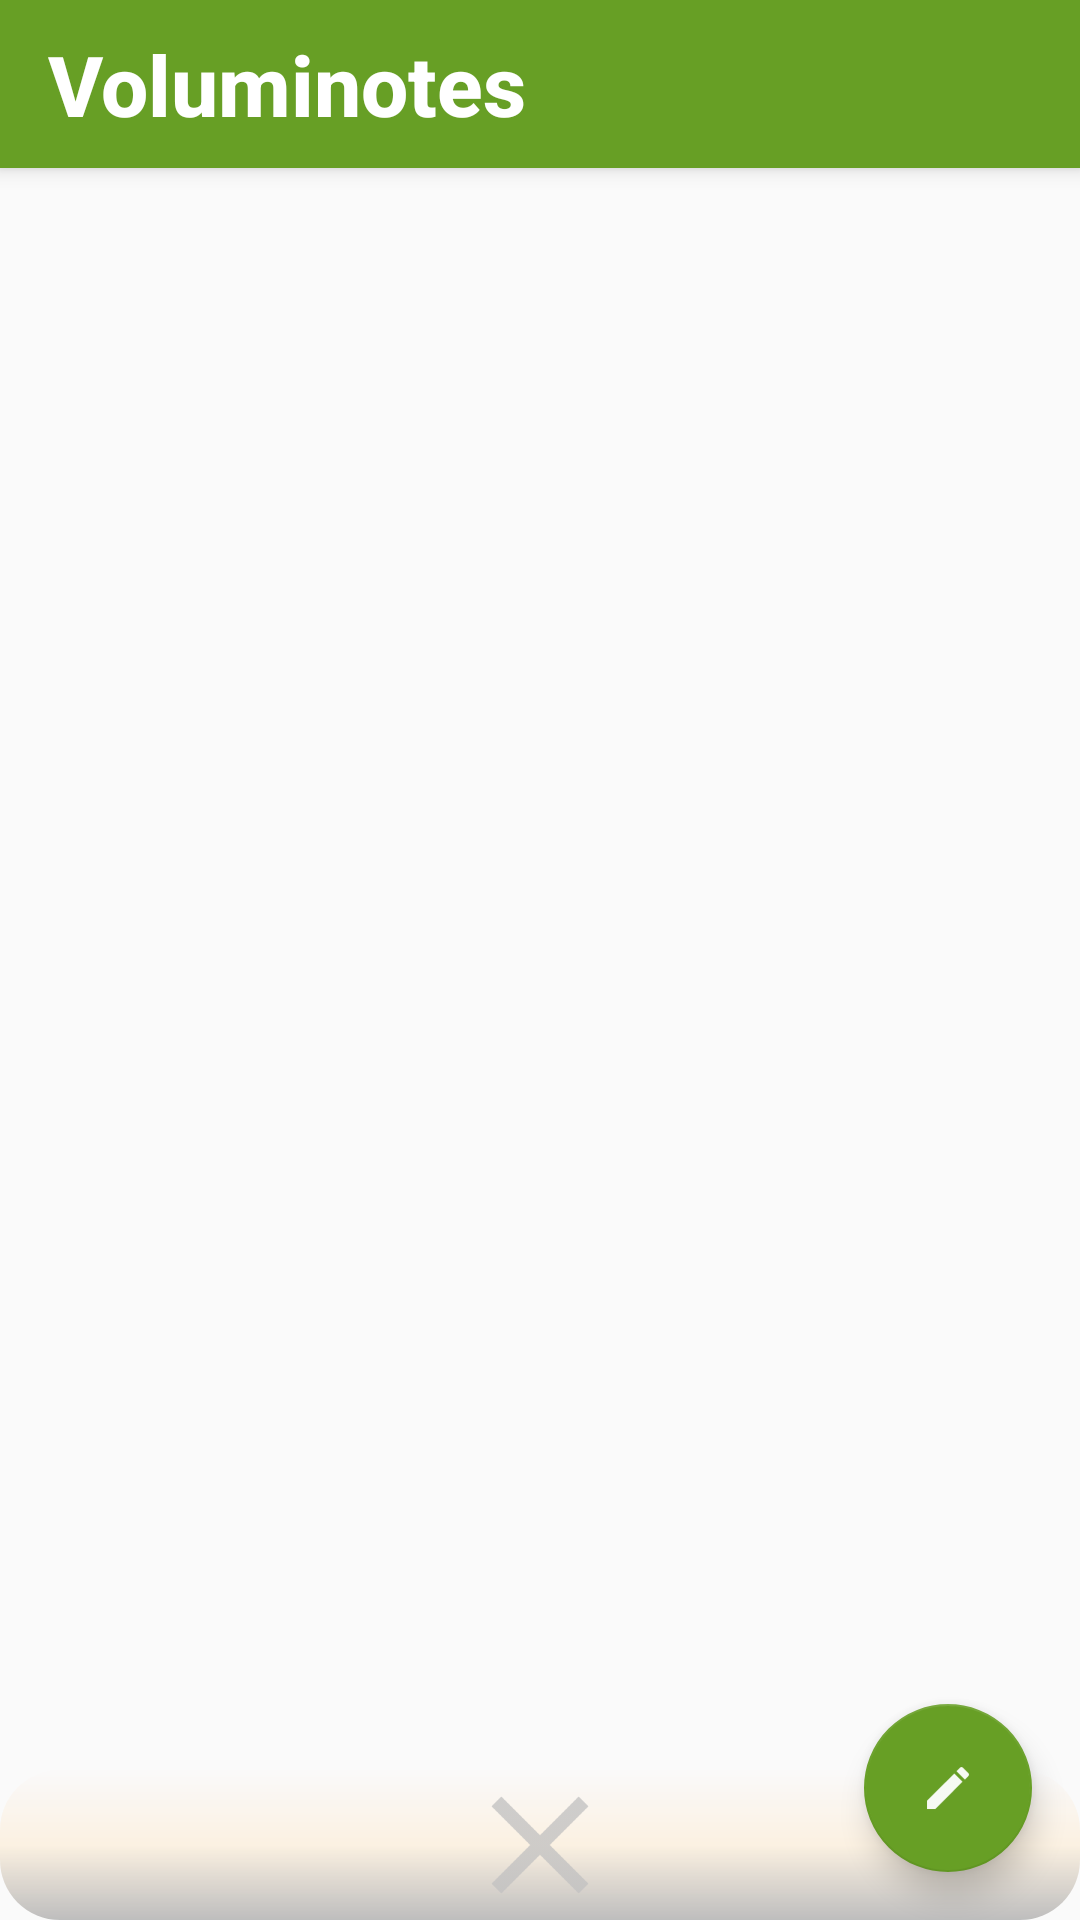

Named icons in this screenshot (1080 × 1920) and their centers, point (x, y):
Close: point (540, 1845)
pencil: point (948, 1788)
